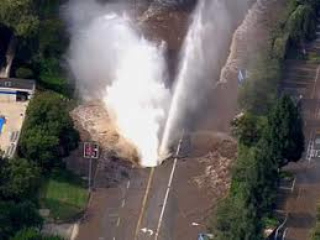smoke: (77, 16, 233, 162)
